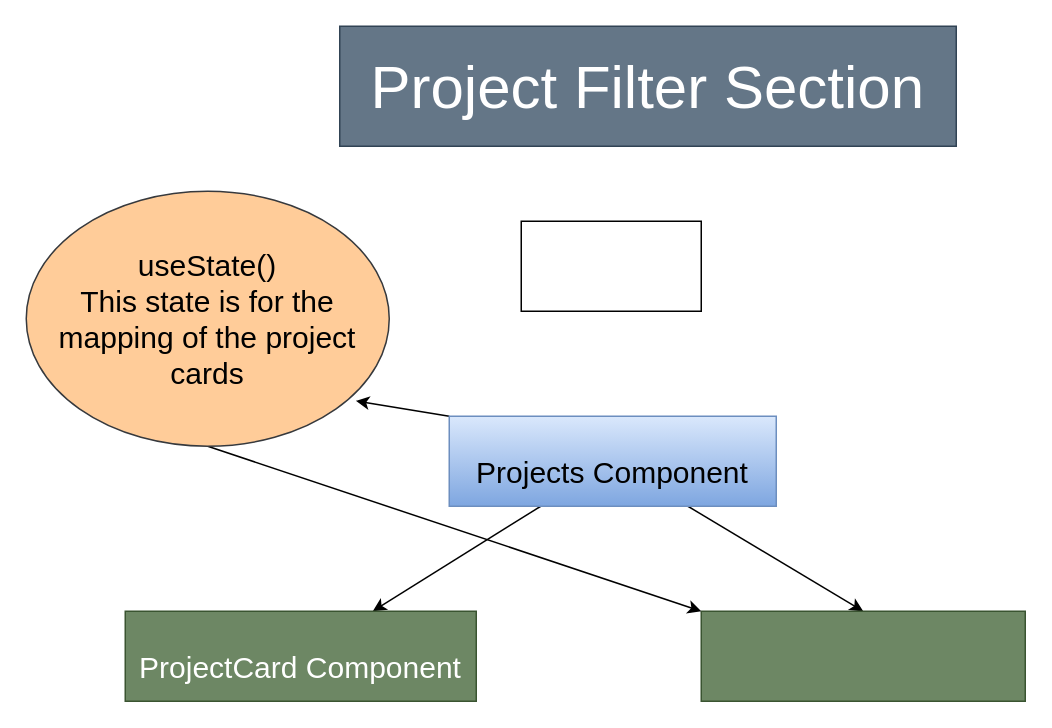
This 1052x728 diagram has some shape labels left out. The shapes that lost their labels are listed below. From the top down, each one's centre as x and y in pixels, then its label:
At point 610,265: "Index.js".
At point 862,655: "Filter".
